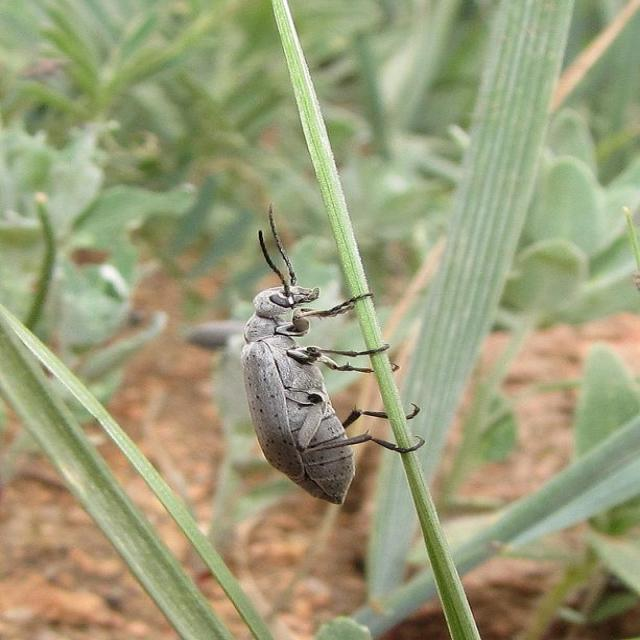BlisterBeetle-Adult-: (228, 201, 431, 508)
